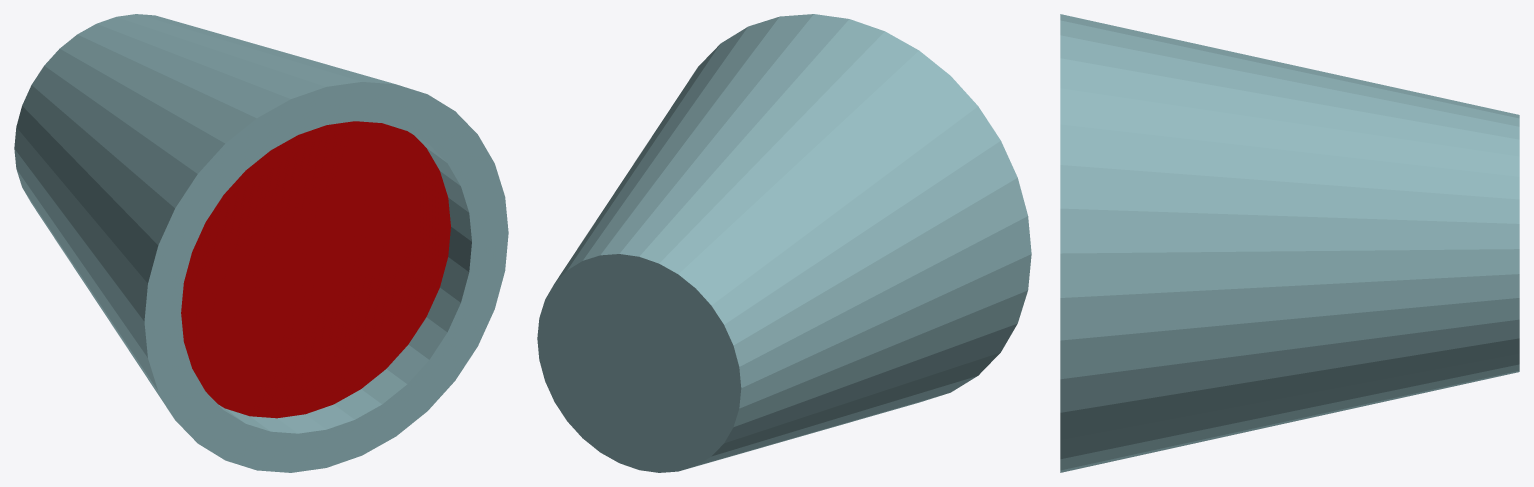
File: f_spotlight.gltf
3 views of the same model, side by side, from view 1: azimuth 30°, elevation 25°; view 2: azimuth 150°, elevation 25°; view 3: azimuth 270°, elevation 25° (orthographic). The views are drawn at different scales.
Visible parts, largest first — view 1: Cylinder; view 2: Cylinder; view 3: Cylinder.
Boxes of the visible parts, bbox=[...] form: Cylinder: bbox=[14, 14, 508, 472]; Cylinder: bbox=[537, 14, 1031, 472]; Cylinder: bbox=[1060, 14, 1519, 472].
Bounding box in the file's own units: 2 × 2 × 2.
